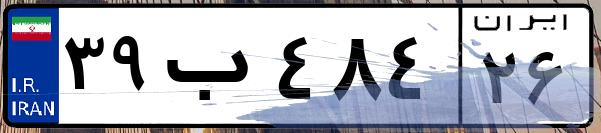2: (475, 38, 525, 113)
3: (57, 26, 110, 100)
4: (270, 28, 330, 110), (385, 28, 445, 110)
6: (525, 38, 570, 115)
8: (330, 28, 385, 110)
9: (110, 28, 158, 98)
ب: (158, 20, 270, 120)
